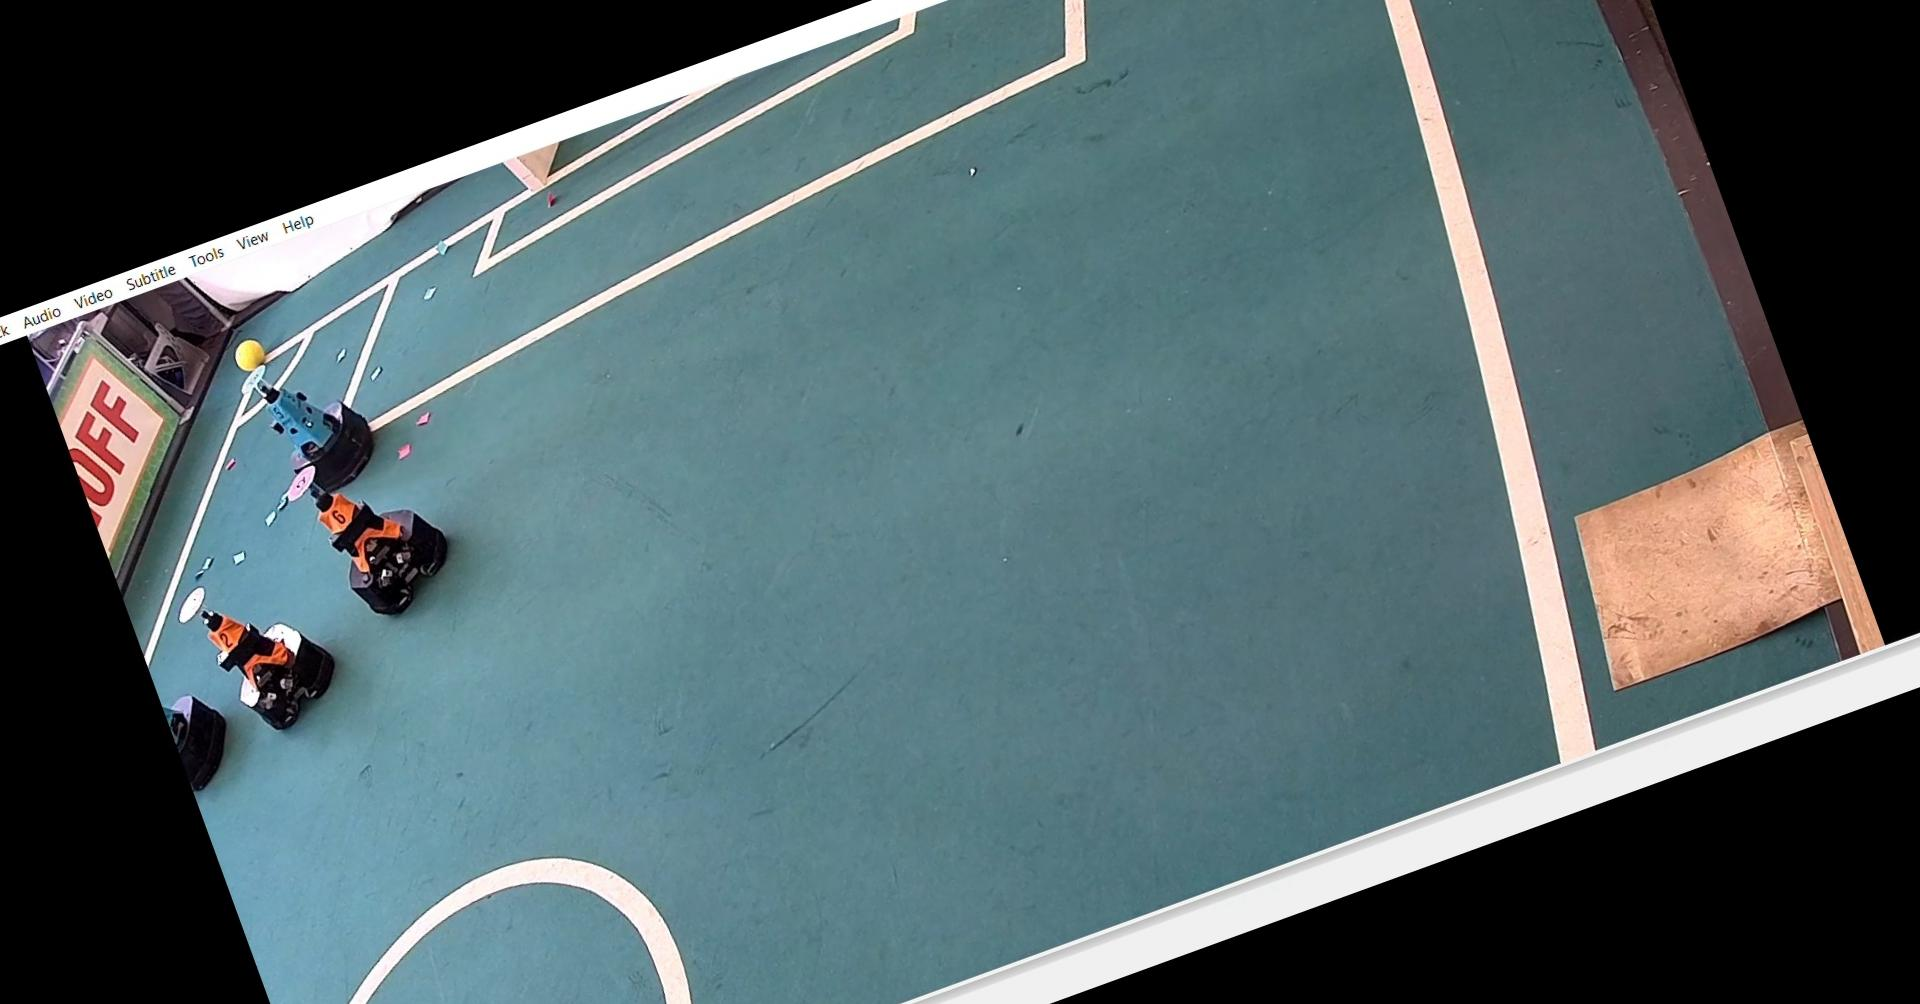Ball: (235, 330, 278, 371)
Team_Blue: (234, 331, 399, 510)
Team_Red: (265, 421, 465, 636), (164, 545, 356, 753)
